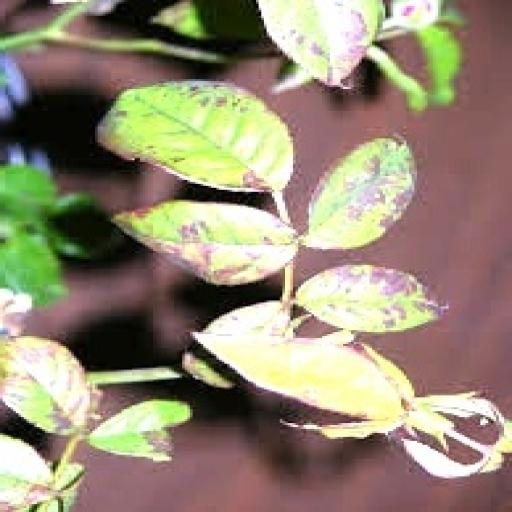downy_mildew: (98, 82, 292, 191), (196, 333, 414, 421), (114, 200, 298, 284), (301, 139, 414, 249), (259, 0, 385, 86), (296, 265, 443, 332), (0, 337, 92, 434), (88, 400, 190, 460), (0, 234, 65, 306), (154, 0, 263, 39), (0, 435, 55, 511), (415, 24, 461, 104), (204, 301, 290, 336)
